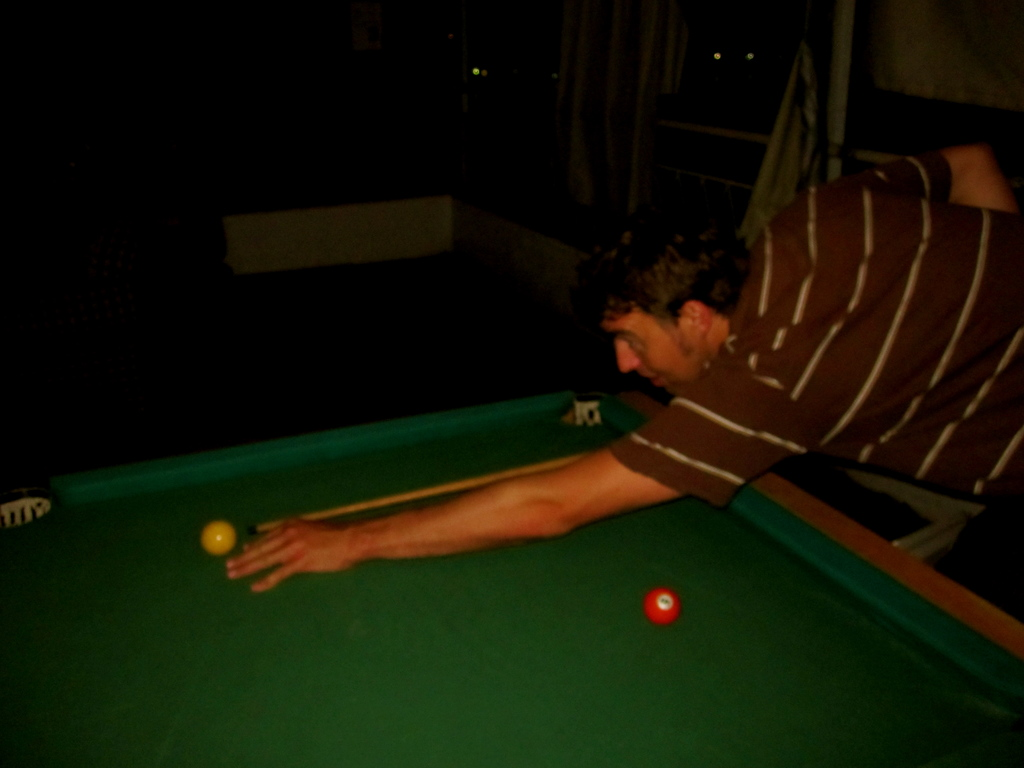Ball: (646, 590, 677, 622), (204, 522, 234, 555)
